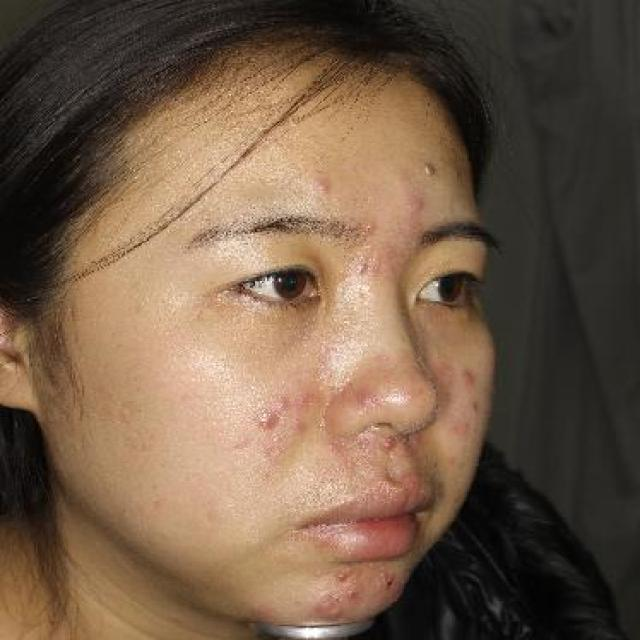papules: (247, 406, 280, 439), (346, 388, 383, 414), (306, 175, 341, 200), (452, 365, 482, 386), (375, 434, 404, 455), (400, 194, 430, 214), (419, 154, 442, 180), (351, 257, 375, 281), (272, 392, 296, 414), (322, 606, 347, 622), (344, 586, 361, 599), (334, 571, 351, 583)
